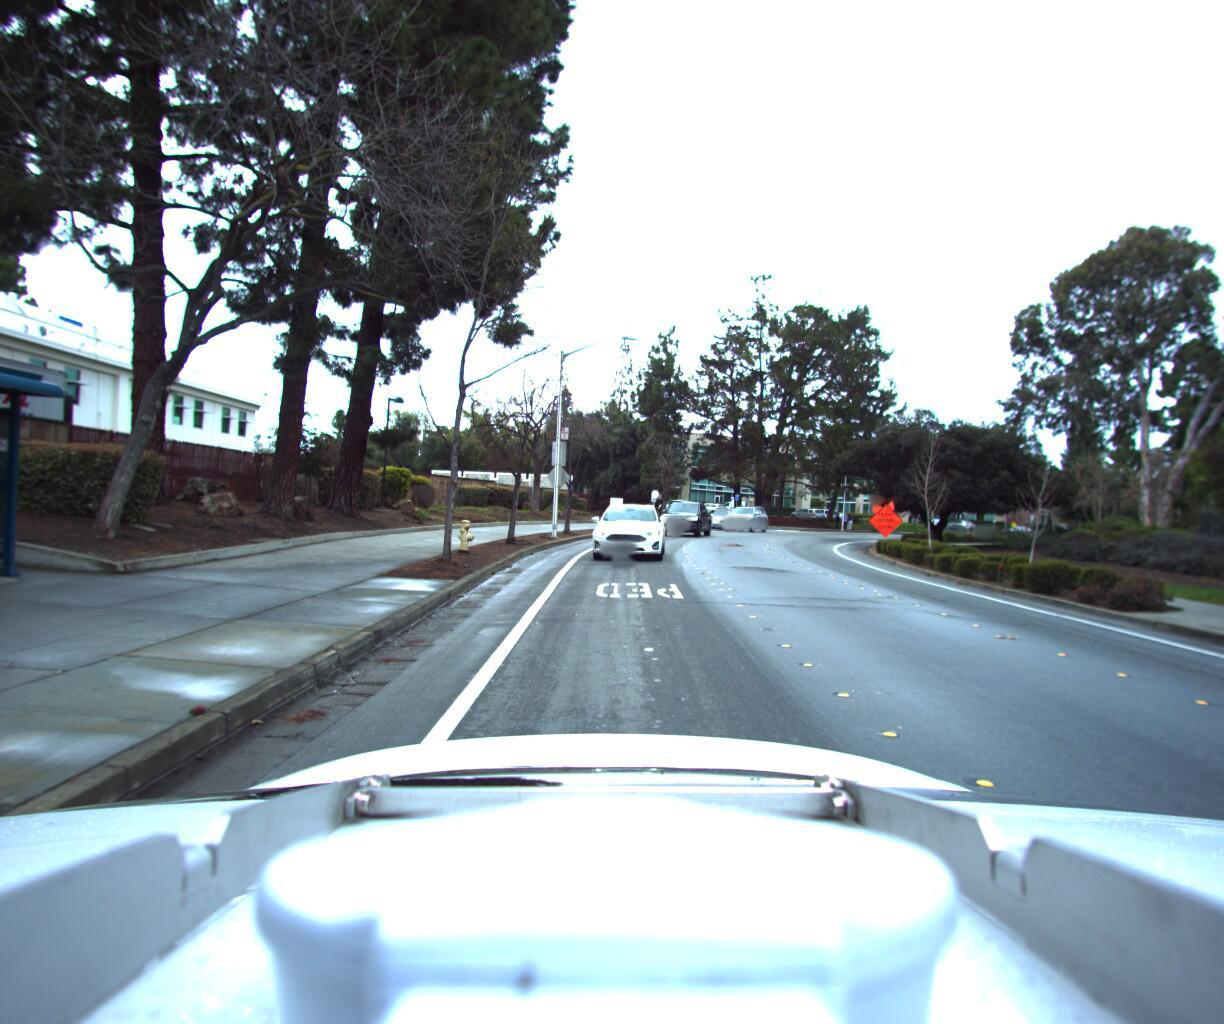car: (586, 498, 665, 565), (656, 499, 709, 539), (719, 503, 769, 534)
